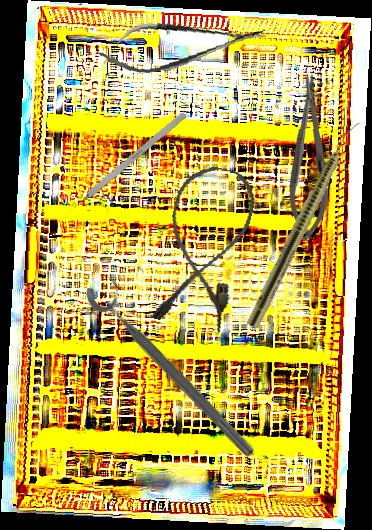Cannula: (147, 159, 261, 336)
Fixation Ring: (80, 268, 270, 464)
Handpiece: (245, 116, 362, 331)
Hook Surgical: (62, 111, 188, 218)
Micro Scissor: (95, 10, 270, 80)
Needle Holder: (288, 73, 331, 242)
